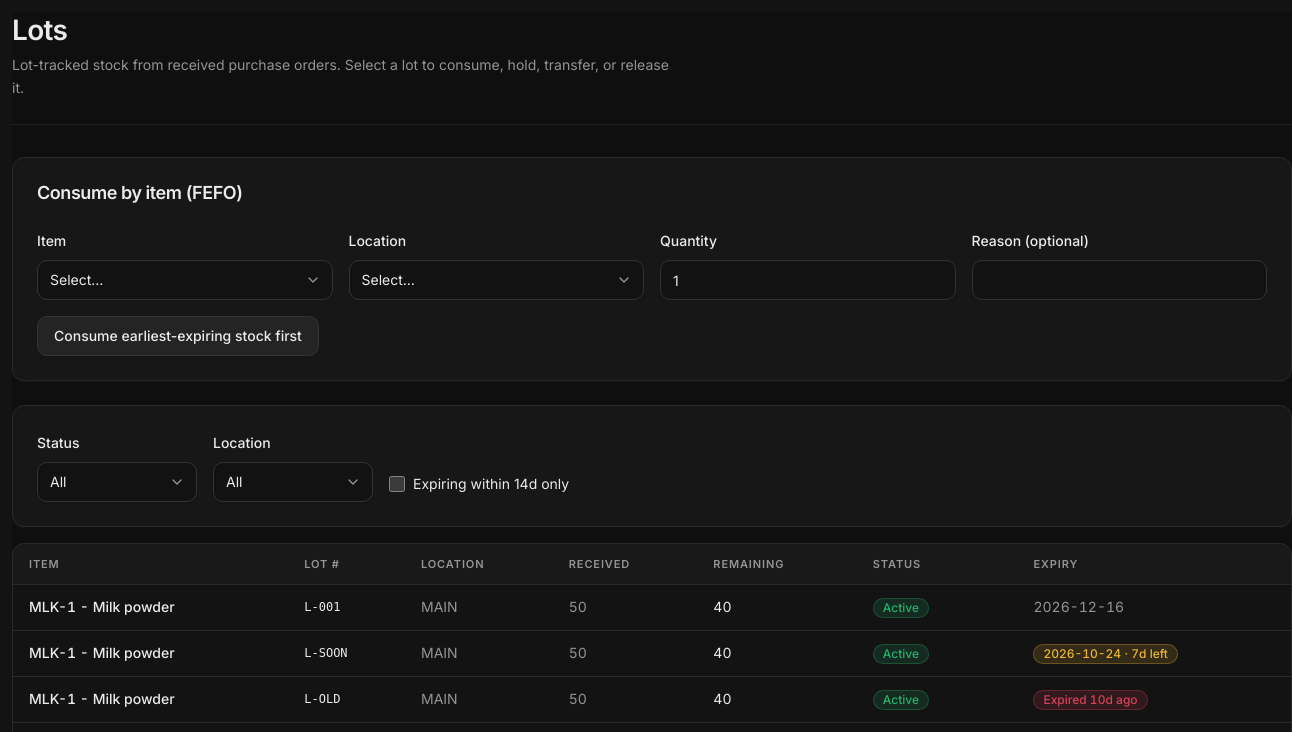
Test: Lots › shows the FEFO server error
Expected: the text "L-001" is shown, [288,584,405,630]
Select "MLK-1 - Milk powder" in the dropdown labelled "Item" at x=185, y=280, box [37,260,332,300]
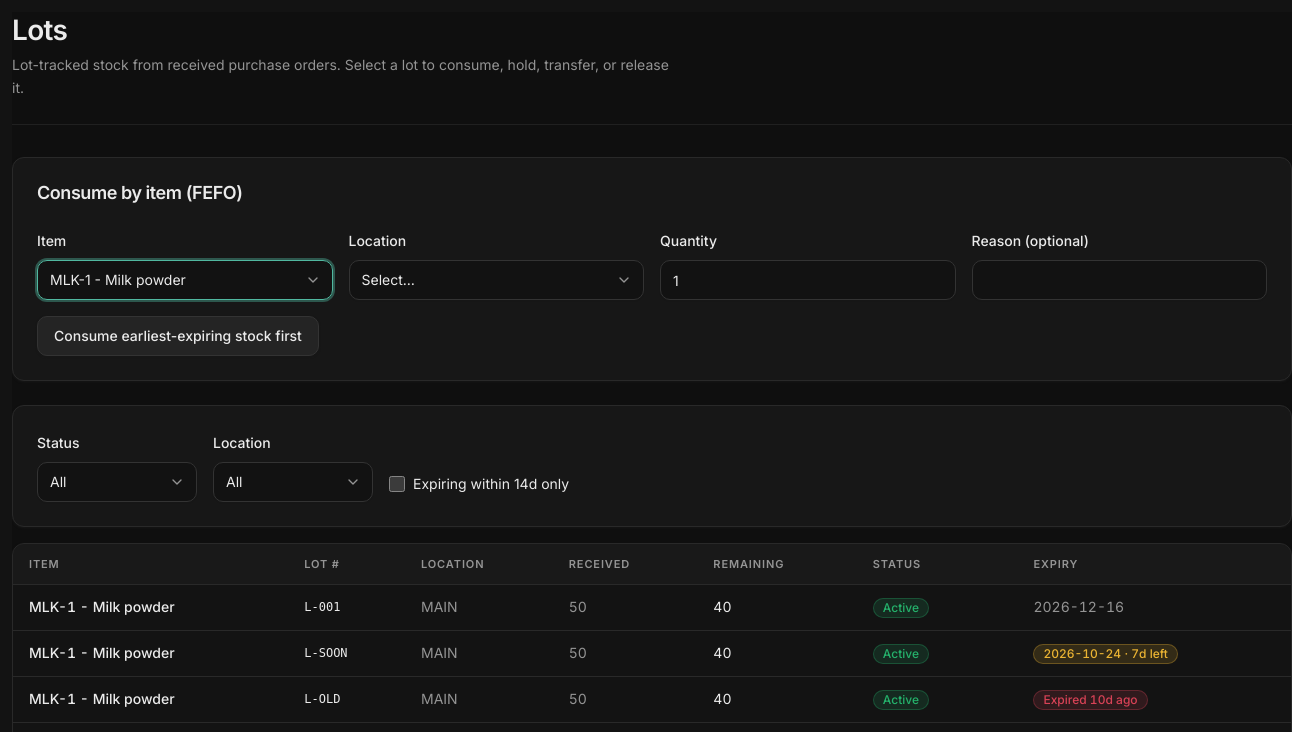
Select "MAIN" in the dropdown labelled "Location" below "Quantity" at x=496, y=280, box [348,260,644,300]
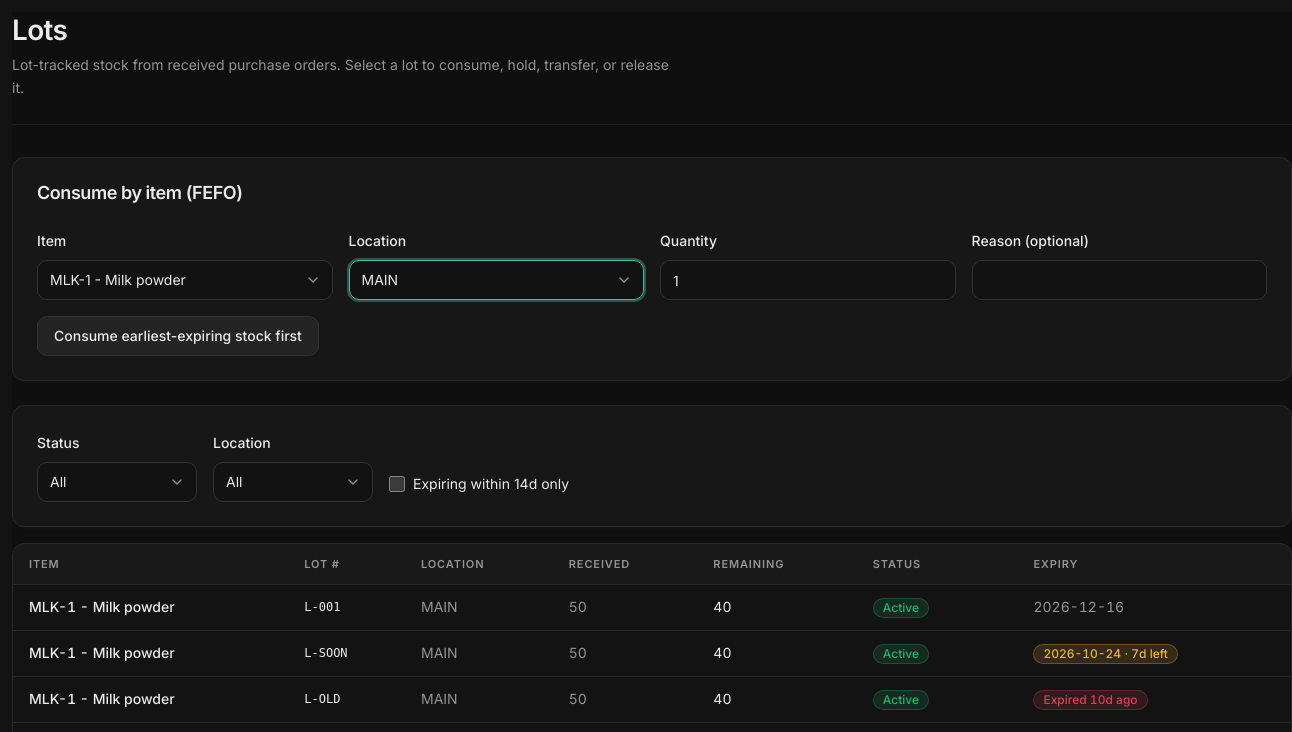
Click the button "Consume earliest-expiring stock first" at x=178, y=336, box [37,316,319,356]
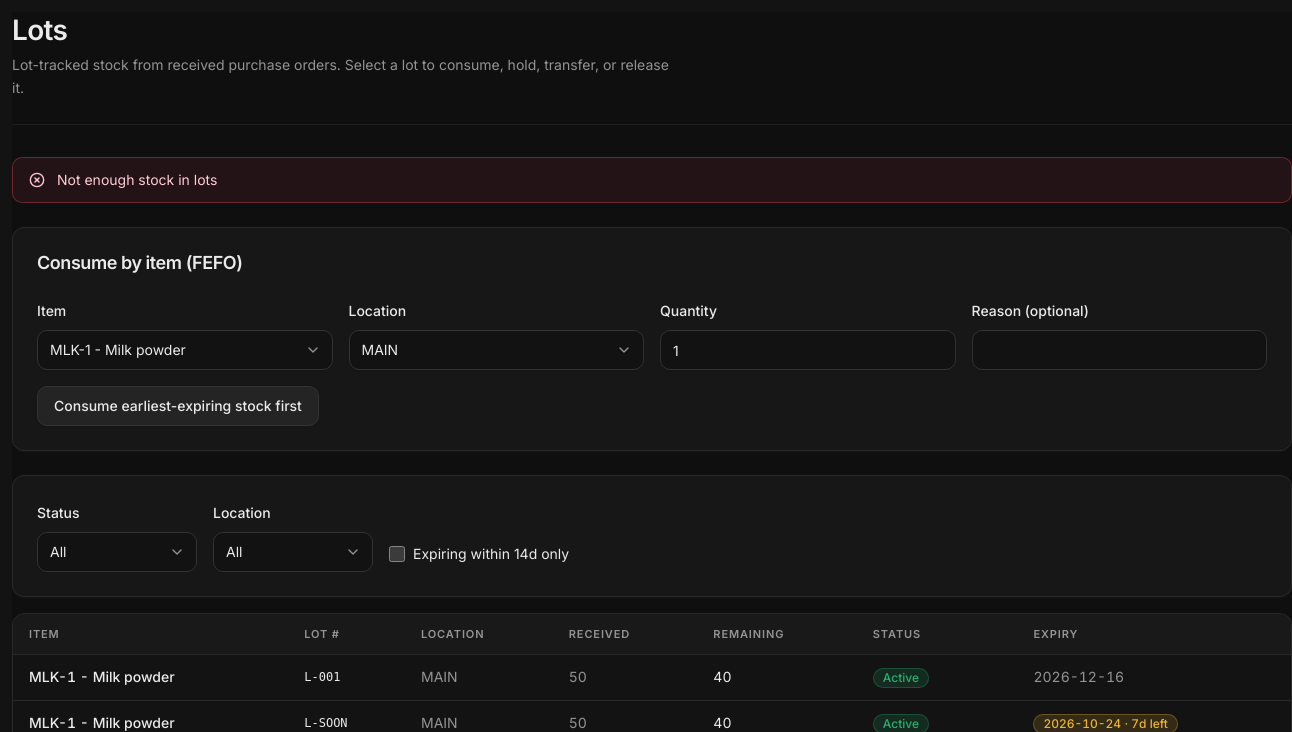
Result: the text "Not enough stock in lots" is shown at [57,170,217,190]
